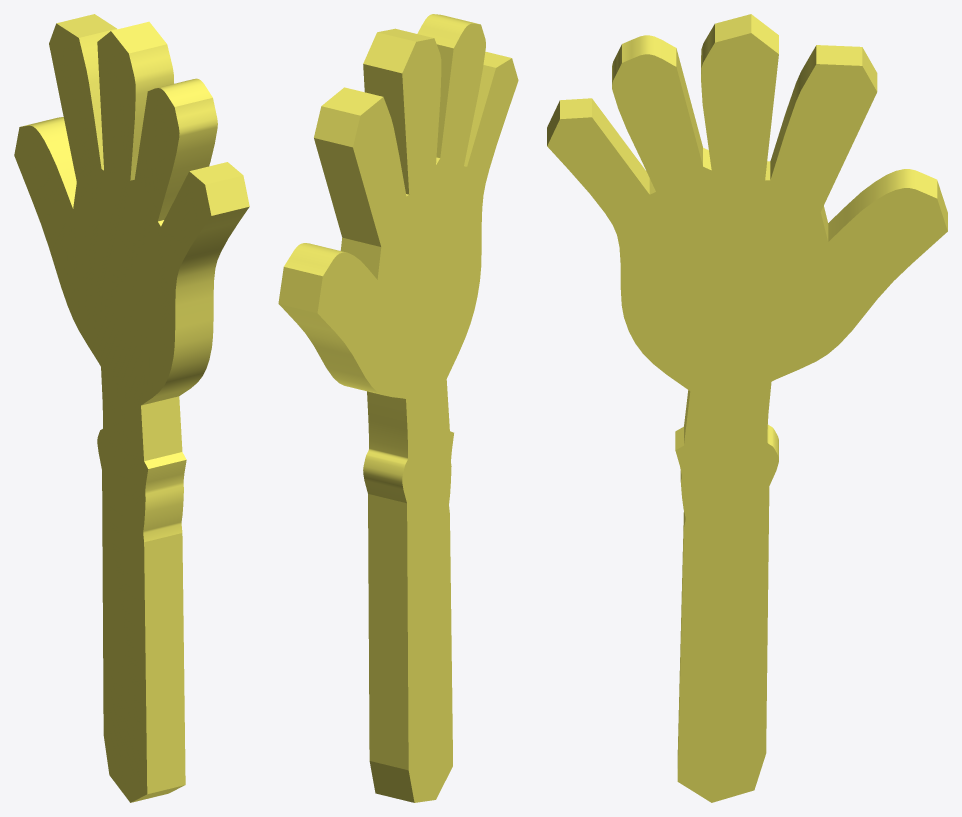
File: plastic_hand_9cm_wide.dae
3 views of the same model, side by side, from view 1: azimuth 30°, elevation 25°; view 2: azimuth 150°, elevation 25°; view 3: azimuth 270°, elevation 25° (orthographic).
Visible parts, largest first — view 1: Shape_IndexedFaceSet; view 2: Shape_IndexedFaceSet; view 3: Shape_IndexedFaceSet.
Part boxes in pixels (x1,y1,x2,y2): Shape_IndexedFaceSet: (14,14,249,802); Shape_IndexedFaceSet: (278,14,518,802); Shape_IndexedFaceSet: (547,14,947,802).
Bounding box in the file's own units: 0.01 × 0.0891 × 0.1888.
